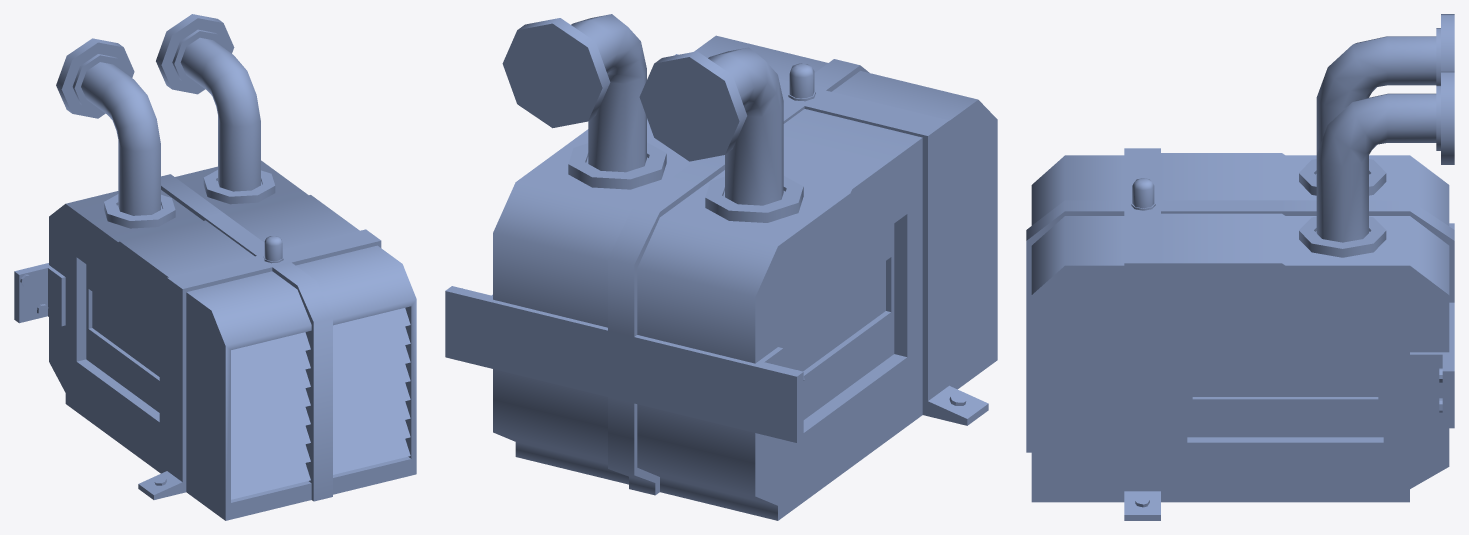
Rendered from Mixer01.fbx.
3 views of the same model, side by side, from view 1: azimuth 30°, elevation 25°; view 2: azimuth 150°, elevation 25°; view 3: azimuth 270°, elevation 25° (orthographic). The views are drawn at different scales.
Visible parts, largest first — view 1: Mesh.Sc-fi.Mixer.01; view 2: Mesh.Sc-fi.Mixer.01; view 3: Mesh.Sc-fi.Mixer.01.
Boxes of the visible parts, bbox=[...] form: Mesh.Sc-fi.Mixer.01: bbox=[14, 14, 416, 520]; Mesh.Sc-fi.Mixer.01: bbox=[445, 14, 997, 520]; Mesh.Sc-fi.Mixer.01: bbox=[1026, 14, 1454, 520].
Bounding box in the file's own units: 95.31 × 121 × 117.
